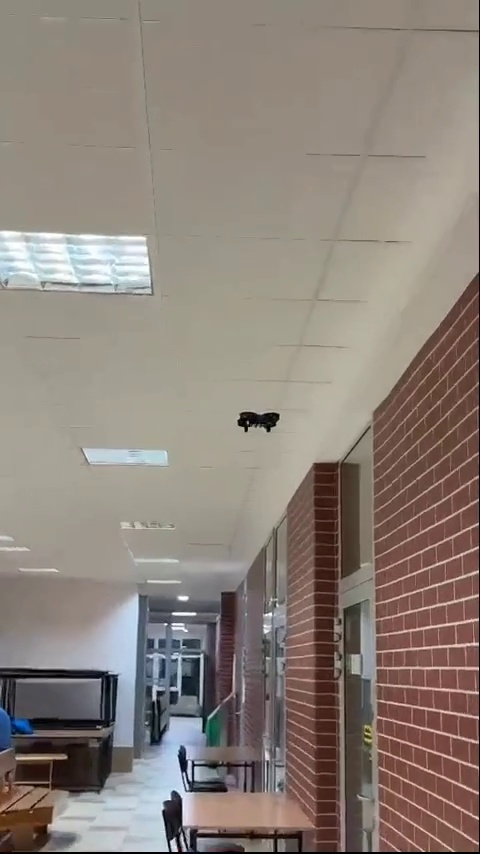drone: (236, 414, 283, 428)
